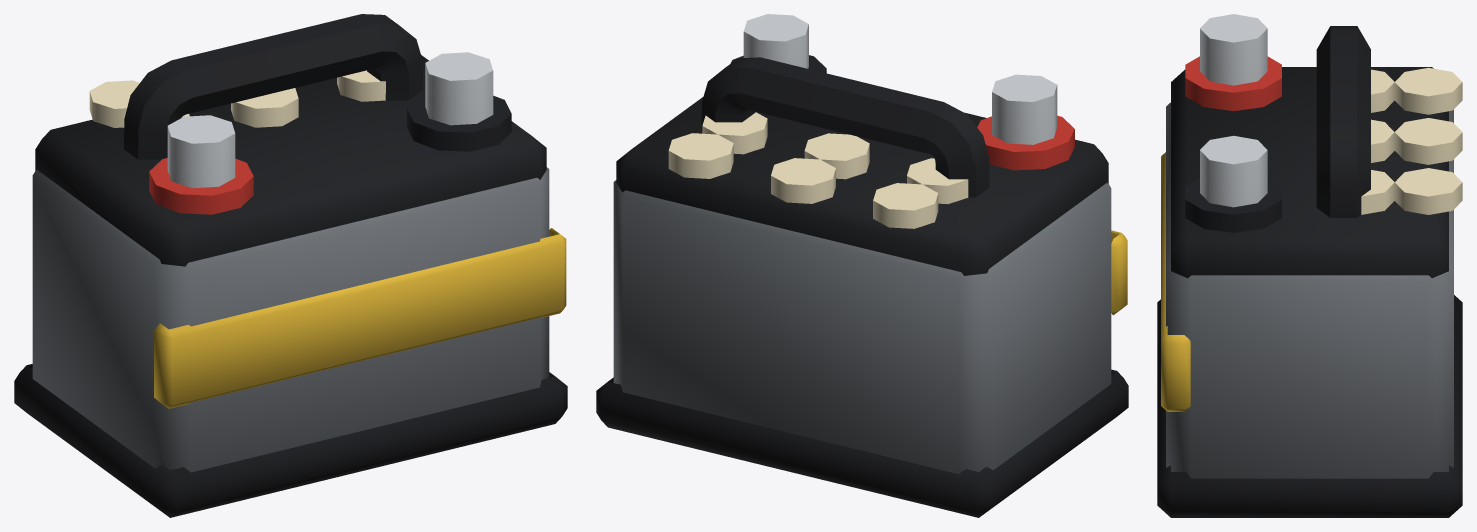
The model's file is Battery_Car_01.glb.
The picture shows the model from 3 angles, left to right: view 1: azimuth 30°, elevation 25°; view 2: azimuth 150°, elevation 25°; view 3: azimuth 270°, elevation 25°; orthographic projection. The views are drawn at different scales.
Parts seen in each view (by area): view 1: SM_Battery_Car_01; view 2: SM_Battery_Car_01; view 3: SM_Battery_Car_01.
Boxes of the visible parts, bbox=[...] form: SM_Battery_Car_01: bbox=[14, 14, 567, 517]; SM_Battery_Car_01: bbox=[596, 14, 1128, 517]; SM_Battery_Car_01: bbox=[1157, 14, 1462, 517].
Bounding box in the file's own units: 0.27 × 0.2289 × 0.18.
1 material, 1 textured.
